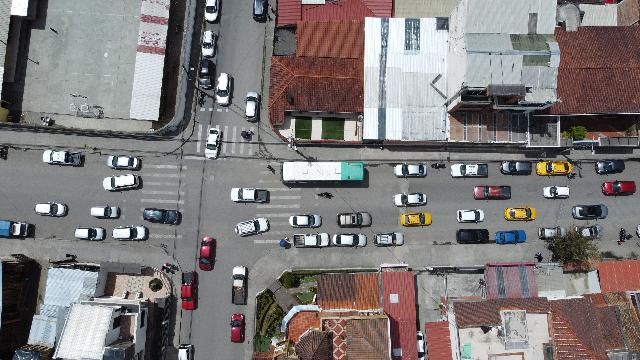Vehiculo: (234, 217, 270, 237), (230, 266, 248, 306), (103, 174, 139, 192), (144, 207, 182, 224), (42, 150, 82, 166), (198, 237, 216, 271), (181, 272, 197, 310), (332, 232, 368, 248), (112, 225, 148, 241), (293, 232, 329, 248), (572, 204, 608, 220), (336, 212, 372, 228), (231, 187, 269, 202), (602, 180, 636, 196), (34, 202, 68, 218), (393, 192, 427, 208), (450, 164, 488, 178), (474, 186, 511, 200), (500, 160, 532, 176), (456, 228, 488, 244), (216, 74, 232, 106), (205, 128, 221, 160), (536, 162, 572, 176), (244, 91, 260, 121), (394, 164, 428, 178), (374, 231, 404, 246), (290, 214, 322, 228), (74, 227, 106, 241), (504, 207, 536, 221), (108, 156, 140, 170), (494, 230, 526, 244), (199, 60, 215, 88), (230, 314, 246, 342), (401, 212, 432, 226), (595, 160, 625, 174), (92, 206, 120, 220), (575, 225, 603, 239), (202, 30, 216, 57), (457, 209, 483, 223), (539, 226, 565, 240), (10, 221, 34, 236), (204, 1, 220, 23), (252, 0, 268, 22), (543, 186, 569, 198), (417, 331, 425, 359), (636, 224, 640, 238)
